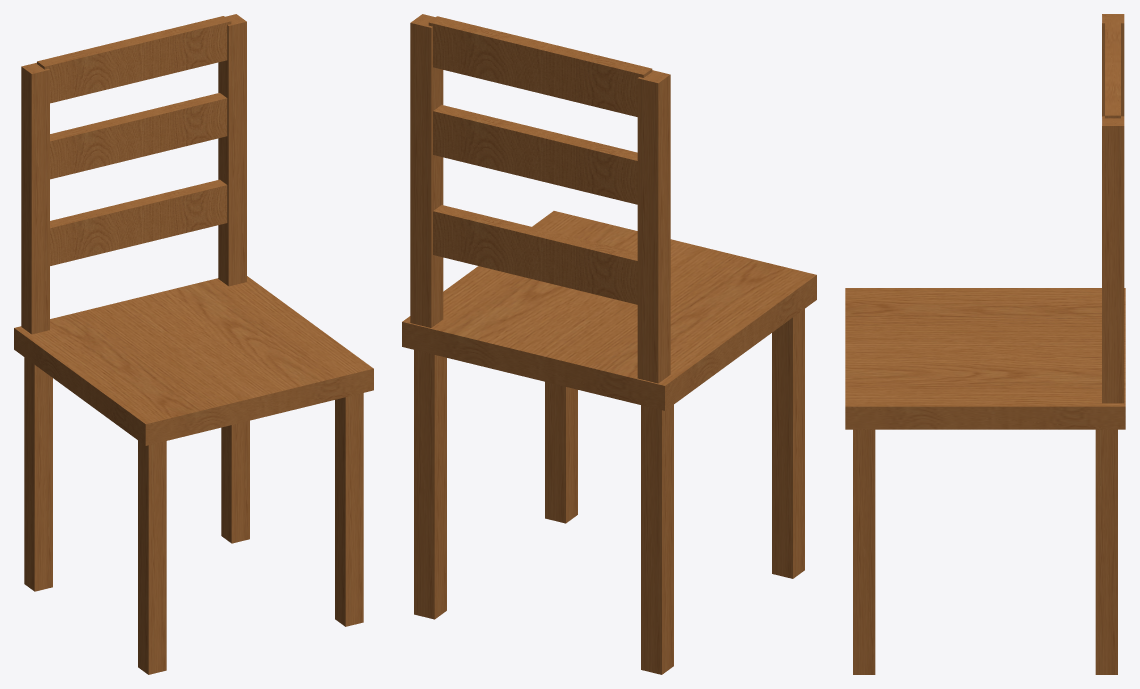
Rendered from Chair.fbx.
The picture shows the model from 3 angles, left to right: view 1: azimuth 30°, elevation 25°; view 2: azimuth 150°, elevation 25°; view 3: azimuth 270°, elevation 25°; orthographic projection. The views are drawn at different scales.
Parts seen in each view (by area): view 1: Chair; view 2: Chair; view 3: Chair.
Part boxes in pixels (x1=…): Chair: x1=14, y1=14, x2=373, y2=674; Chair: x1=402, y1=14, x2=816, y2=674; Chair: x1=845, y1=14, x2=1125, y2=674.
Size of the model in its own units: 0.44 by 0.955 by 0.44.
